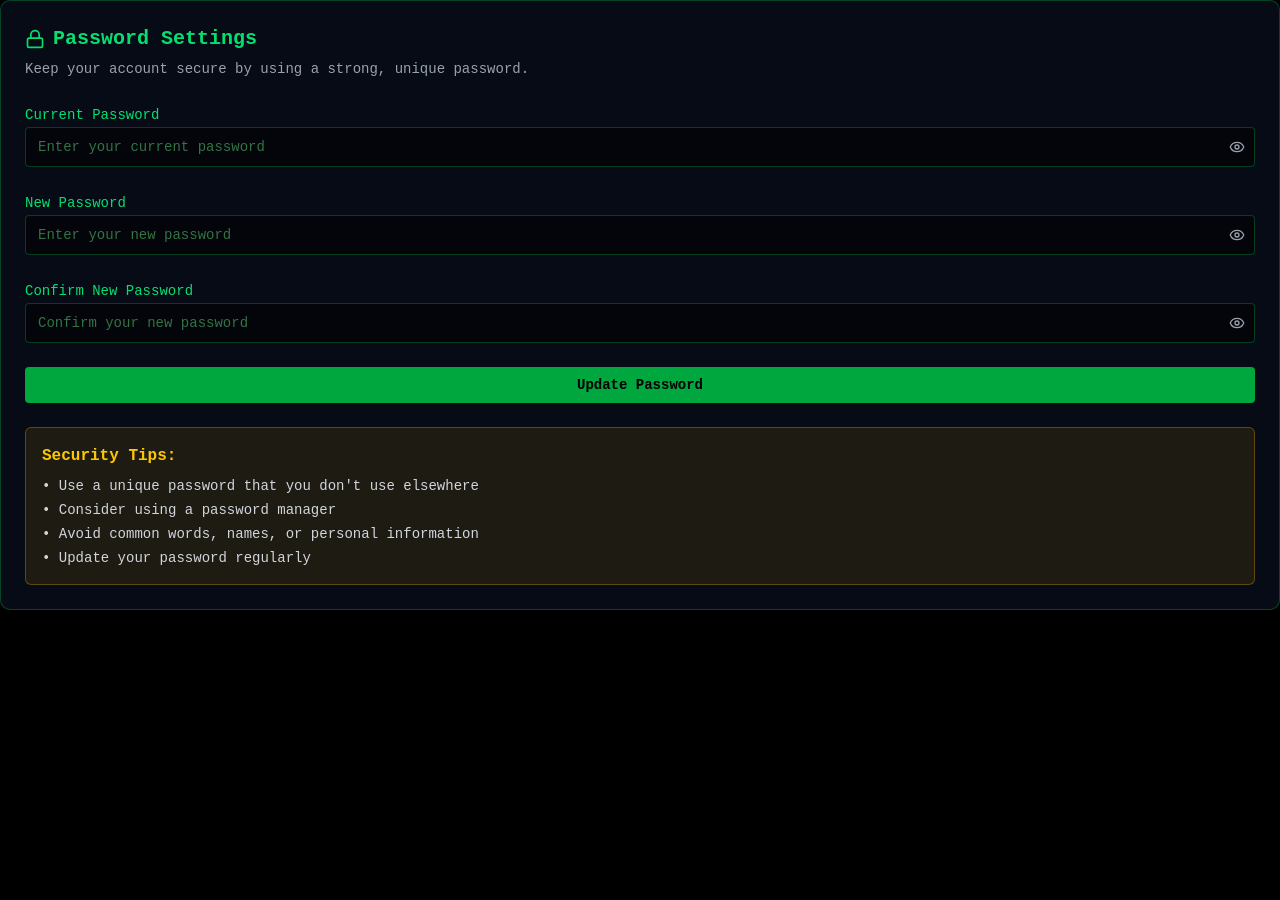
Test case: PasswordSettings › shows password strength requirements
Type a weak password to trigger strength indicator
In the password field labelled "New Password": (640, 235) [25,215,1255,255], type "weak"
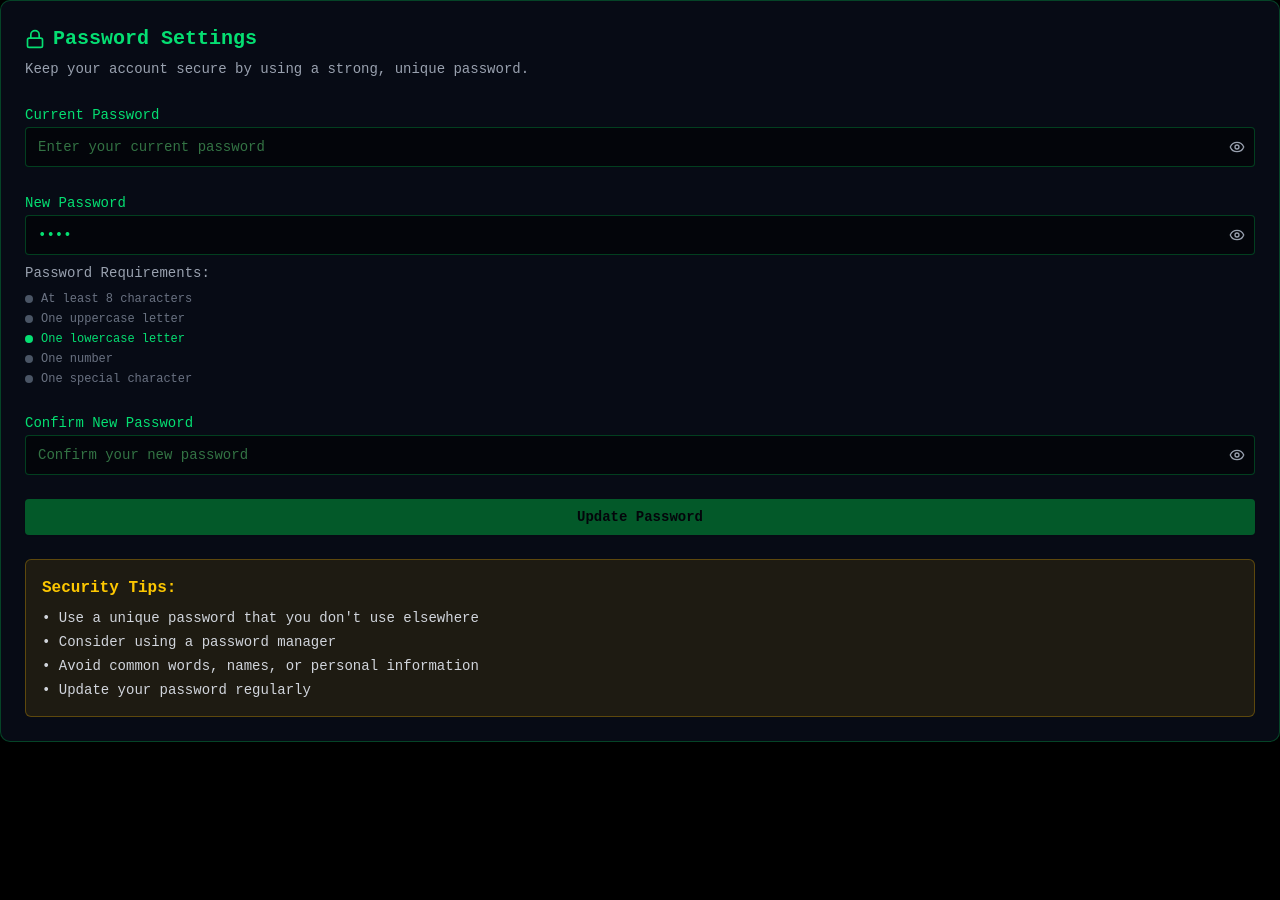
Expected: the text "Password Requirements:" is shown, [25,265,210,281]
Expected: the text "At least 8 characters" is shown, [25,292,192,306]
Expected: the text "One uppercase letter" is shown, [25,312,185,326]
